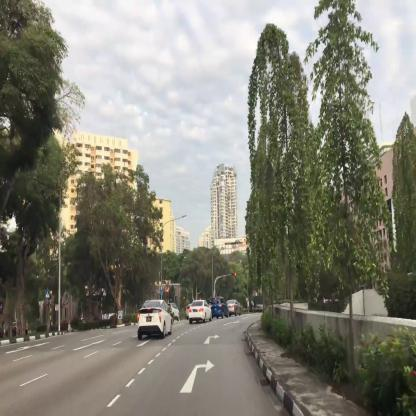red_traffic_light: (166, 288, 168, 299)
